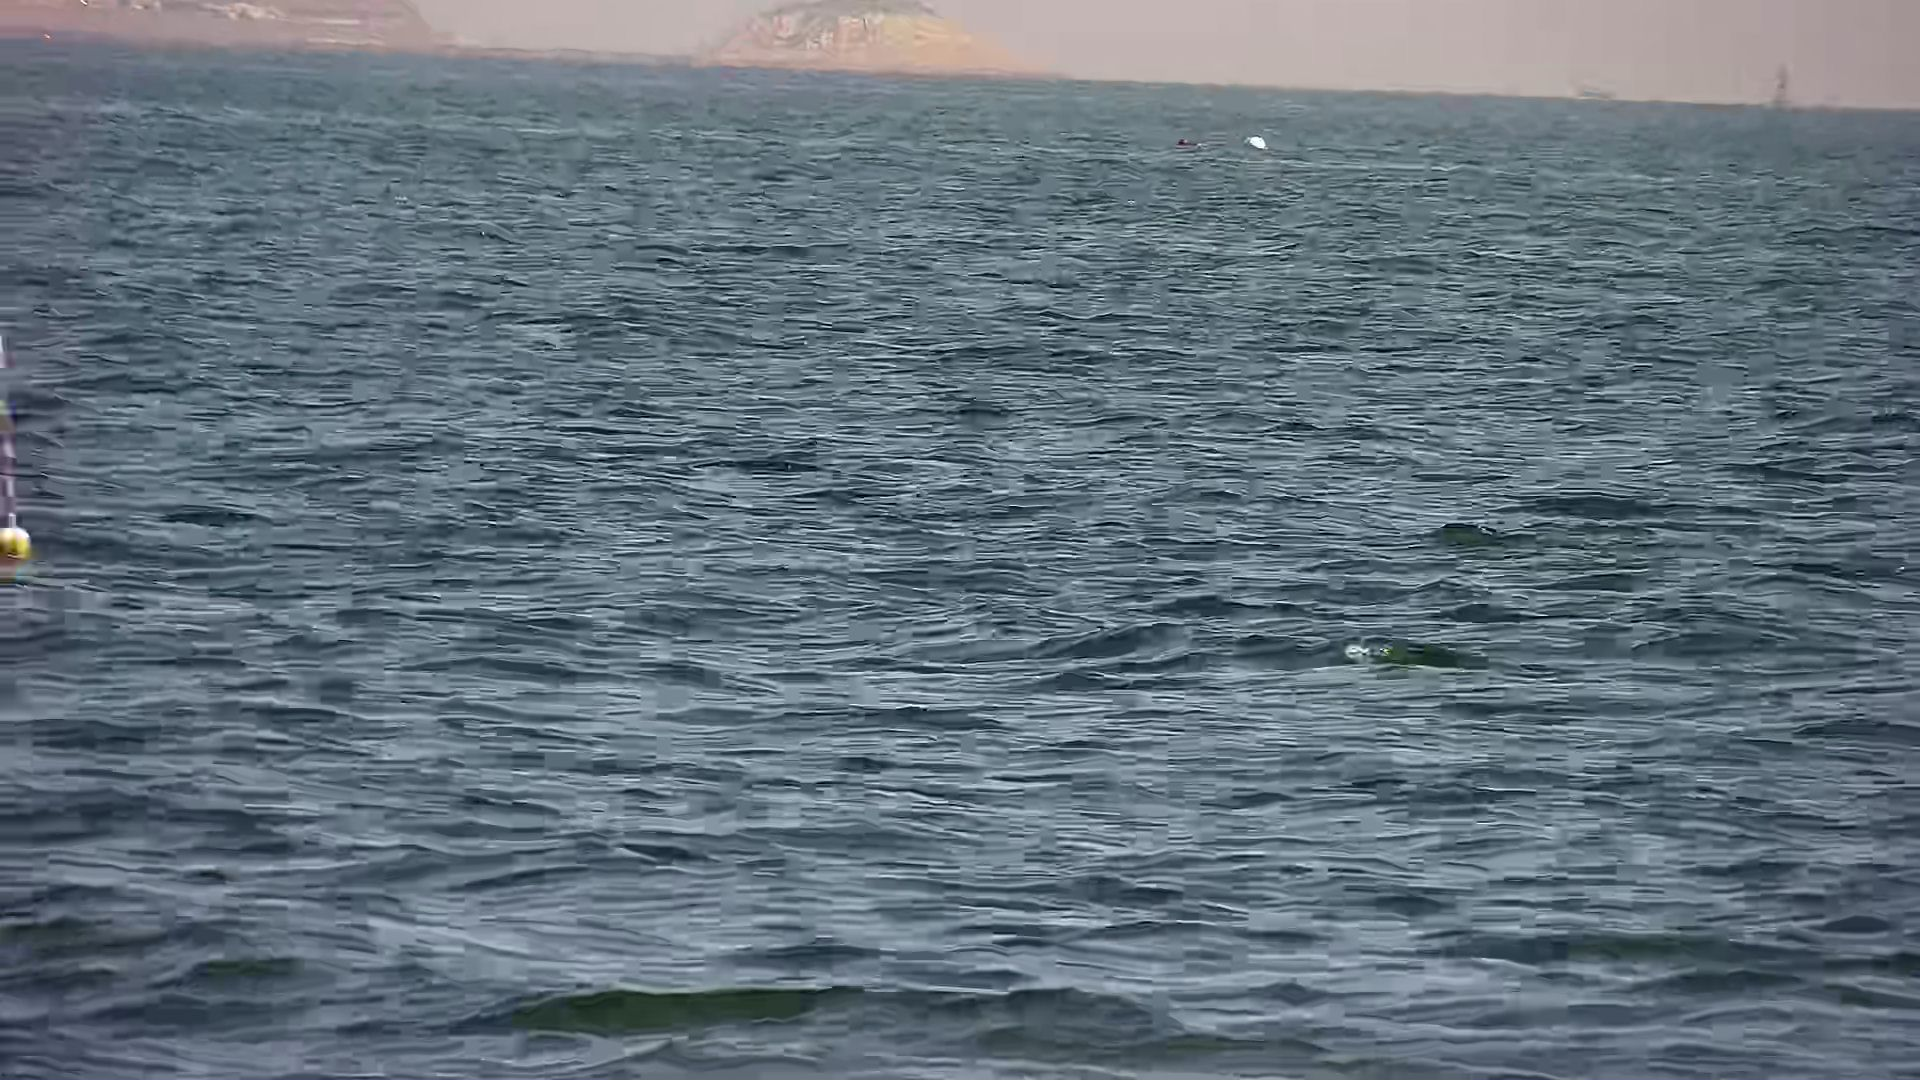rock: (626, 1, 1089, 87)
rubbish: (1238, 127, 1278, 156)
